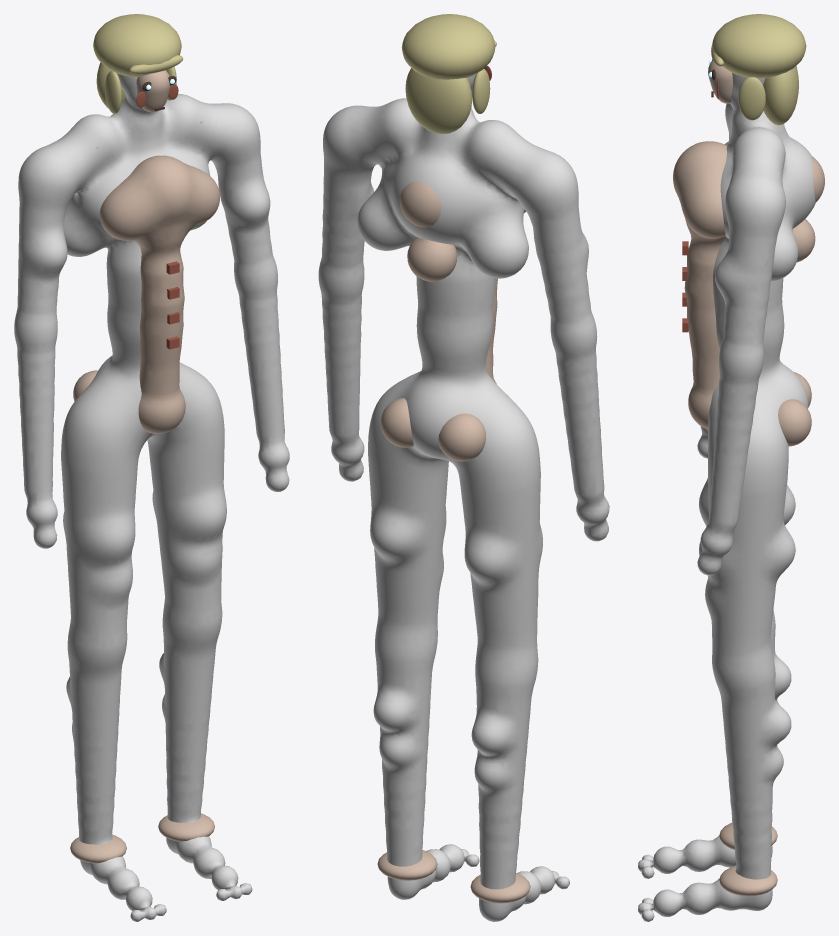
Rendered from female-titan.glb.
3 views of the same model, side by side, from view 1: azimuth 30°, elevation 25°; view 2: azimuth 150°, elevation 25°; view 3: azimuth 270°, elevation 25° (orthographic). The views are drawn at different scales.
Parts seen in each view (by area): view 1: Muscle.001, Pale.001, HairCrown, AnkleWrap.001, AnkleWrap, HairSide.001; view 2: Muscle.001, Pale.001, HairCrown, HairBack, AnkleWrap, AnkleWrap.001, HairSide.001; view 3: Muscle.001, Pale.001, HairCrown, HairBack, AnkleWrap, HairSide.
Part boxes in pixels (<box>): Muscle.001: <box>14,73,289,921</box>; Pale.001: <box>73,70,219,433</box>; HairCrown: <box>93,14,181,76</box>; AnkleWrap.001: <box>70,834,126,863</box>; AnkleWrap: <box>158,813,214,841</box>; HairSide.001: <box>105,70,121,113</box>; Muscle.001: <box>318,74,609,921</box>; Pale.001: <box>381,182,525,461</box>; HairCrown: <box>402,14,495,79</box>; HairBack: <box>405,68,471,133</box>; AnkleWrap: <box>377,850,437,880</box>; AnkleWrap.001: <box>470,873,530,903</box>; HairSide.001: <box>472,69,490,113</box>; Muscle.001: <box>638,72,815,921</box>; Pale.001: <box>673,60,824,446</box>; HairCrown: <box>712,14,806,78</box>; HairBack: <box>763,65,798,125</box>; AnkleWrap: <box>719,865,777,896</box>; HairSide: <box>738,77,765,120</box>.
Size of the model in its own units: 4.36 by 13.62 by 2.64.
